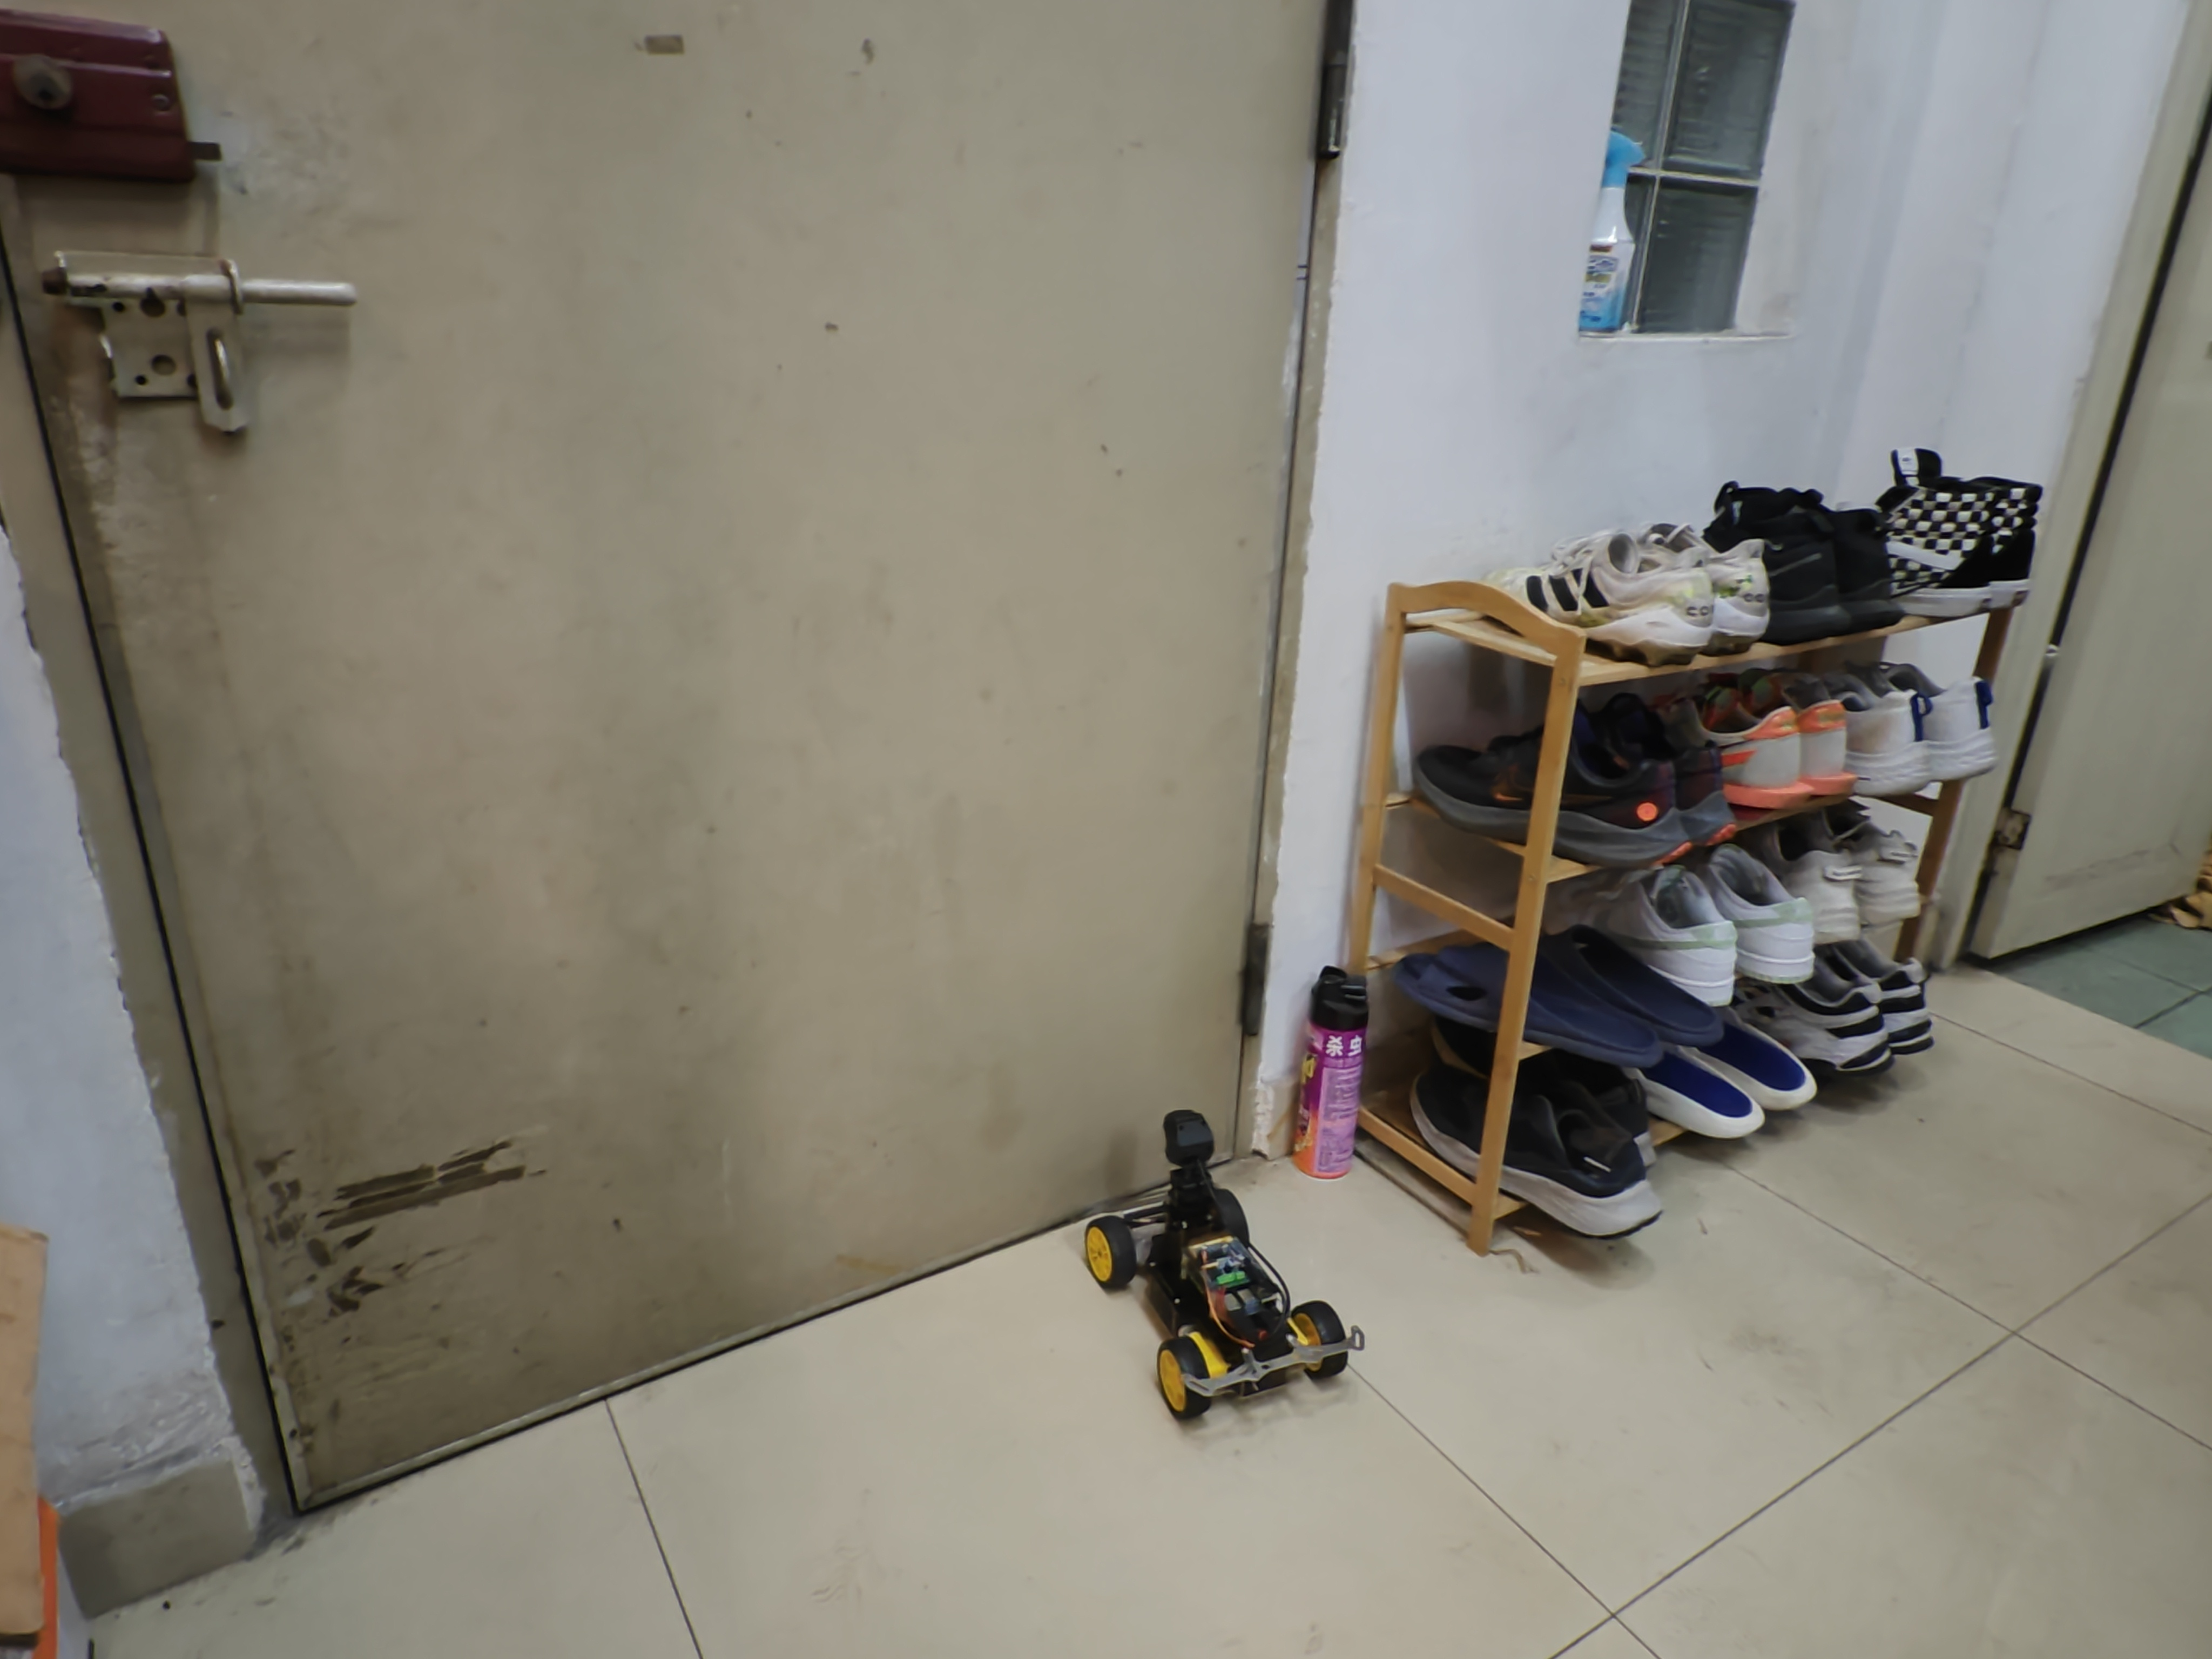car: (1043, 1087, 1376, 1438)
